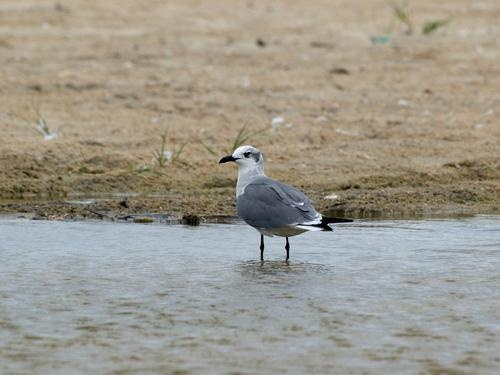bird: (216, 140, 339, 266)
